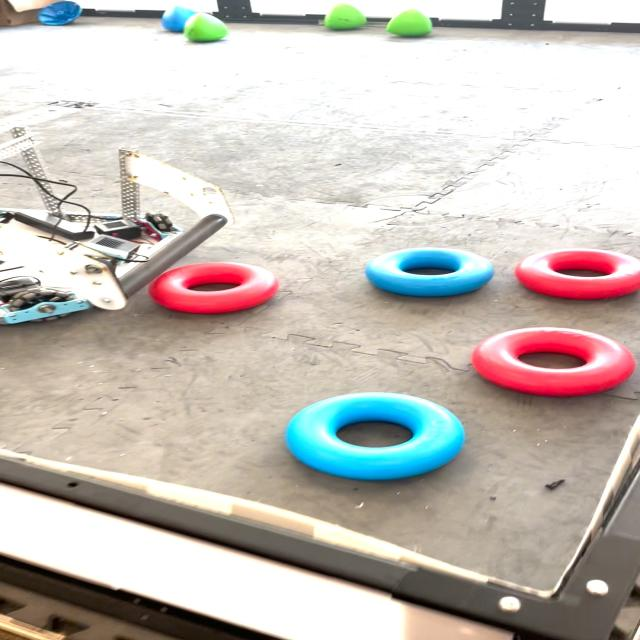Blue-Ring: (287, 392, 464, 480), (364, 248, 493, 296)
Red-Ring: (471, 328, 636, 396), (149, 262, 280, 314), (513, 249, 640, 299)
